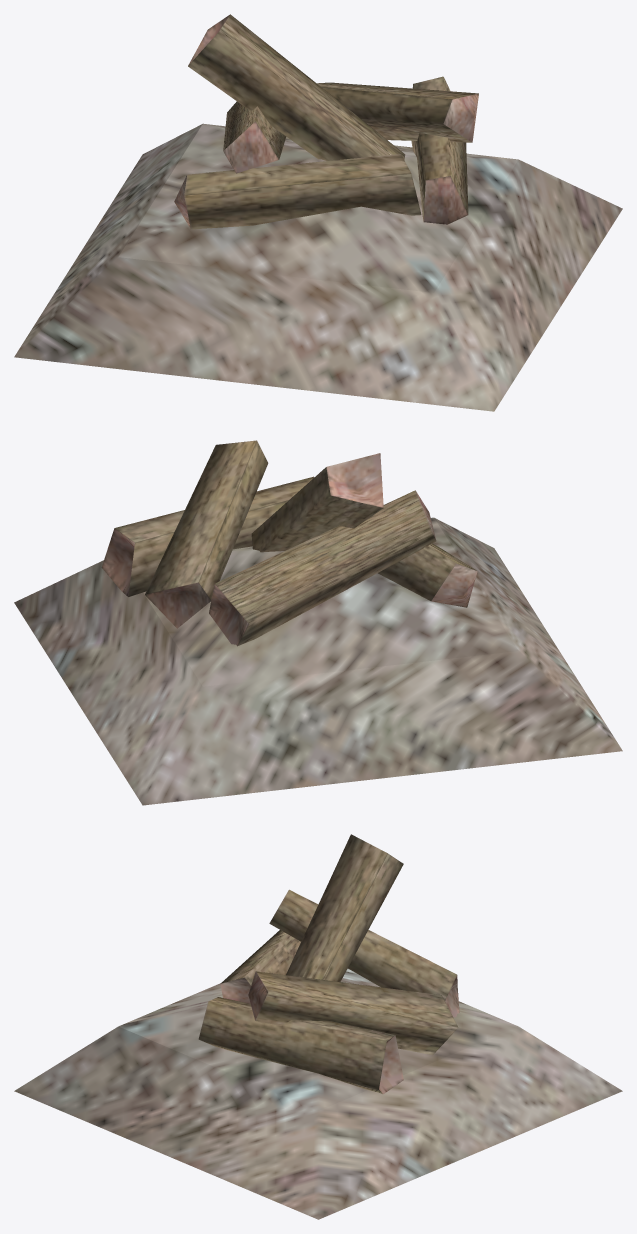
File: eqp_camping_log_fresh_l2.fbx
3 views of the same model, one above another, from view 1: azimuth 30°, elevation 25°; view 2: azimuth 150°, elevation 25°; view 3: azimuth 270°, elevation 25° (orthographic). The views are drawn at different scales.
Visible parts, largest first — view 1: mesh_node; view 2: mesh_node; view 3: mesh_node.
Part boxes in pixels (x1,y1,x2,y2): mesh_node: (14, 14, 622, 411); mesh_node: (14, 440, 622, 805); mesh_node: (14, 834, 622, 1219).
Bounding box in the file's own units: 1.23 × 0.498 × 1.23.
Materials: 1 (1 with a texture image).
